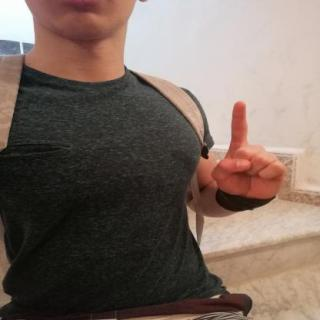BAA: (201, 96, 297, 211)
